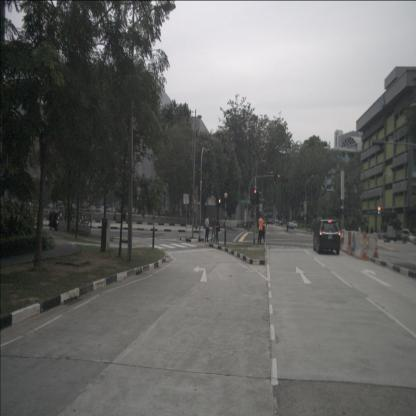barrier: (352, 234, 365, 259), (366, 234, 378, 258), (346, 231, 353, 255), (341, 231, 349, 252)
cone: (363, 242, 367, 260), (374, 242, 378, 258)
